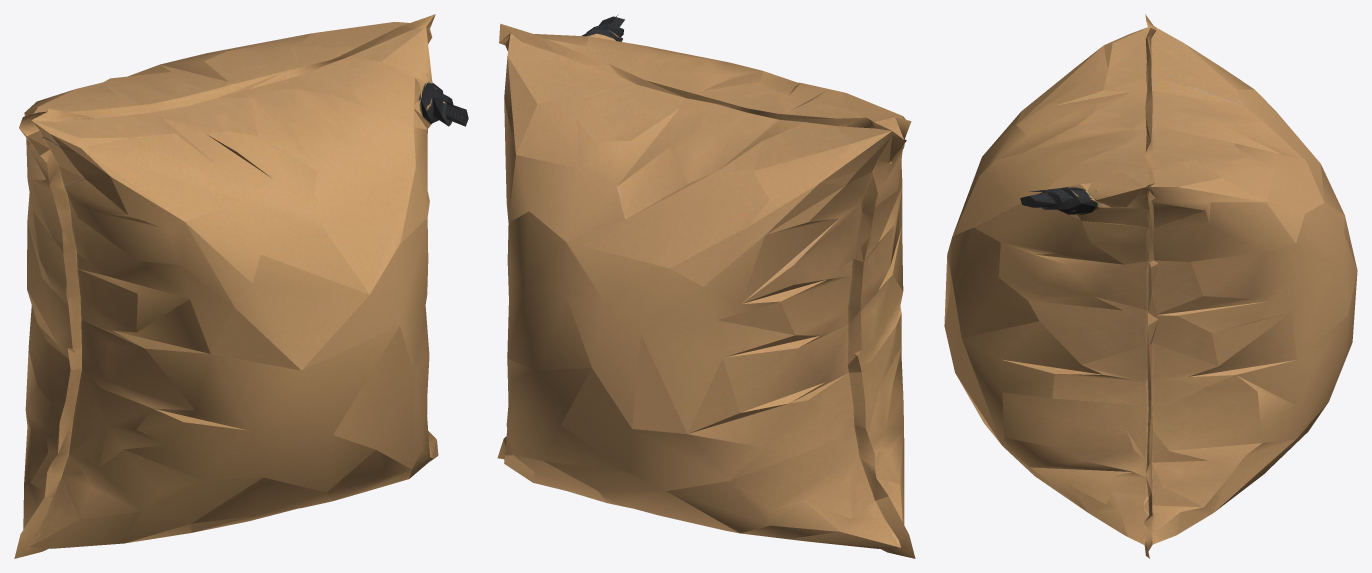
3 views of the same model, side by side, from view 1: azimuth 30°, elevation 25°; view 2: azimuth 150°, elevation 25°; view 3: azimuth 270°, elevation 25° (orthographic). The views are drawn at different scales.
Parts seen in each view (by area): view 1: dunnage-airbag; view 2: dunnage-airbag; view 3: dunnage-airbag.
Boxes of the visible parts, x1,y1,x2,y2 form: dunnage-airbag: [14, 14, 468, 558]; dunnage-airbag: [497, 14, 915, 558]; dunnage-airbag: [944, 14, 1357, 558].
Bounding box in the file's own units: 1 × 1 × 1.
Materials: 1 (1 with a texture image).
